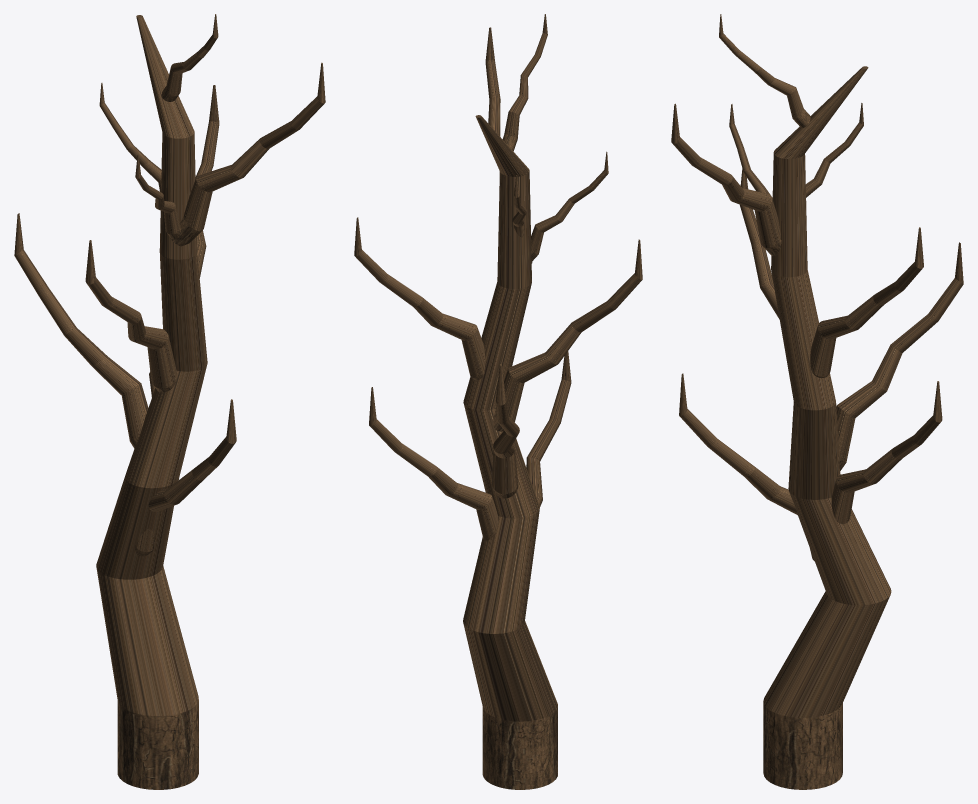
File: withering tree.obj
3 views of the same model, side by side, from view 1: azimuth 30°, elevation 25°; view 2: azimuth 150°, elevation 25°; view 3: azimuth 270°, elevation 25° (orthographic). The views are drawn at different scales.
Visible parts, largest first — view 1: Cylinder, Cylinder.005, Cylinder.003, Cylinder.007, Cylinder.006, Cylinder.008, Cylinder.001, Cylinder.002, Cylinder.004; view 2: Cylinder, Cylinder.007, Cylinder.008, Cylinder.009, Cylinder.005, Cylinder.006, Cylinder.001, Cylinder.002, Cylinder.003; view 3: Cylinder, Cylinder.005, Cylinder.008, Cylinder.003, Cylinder.009, Cylinder.006, Cylinder.007, Cylinder.001, Cylinder.004, Cylinder.002.
Boxes of the visible parts, x1,y1,x2,y2 form: Cylinder: (96,15,207,789); Cylinder.005: (14,213,148,448); Cylinder.003: (170,62,325,246); Cylinder.007: (85,240,176,392); Cylinder.006: (135,399,236,556); Cylinder.008: (195,85,219,278); Cylinder.001: (161,14,218,101); Cylinder.002: (135,154,180,239); Cylinder.004: (99,83,161,191); Cylinder: (463,115,557,789); Cylinder.007: (493,239,642,431); Cylinder.008: (354,217,485,380); Cylinder.009: (369,387,497,540); Cylinder.005: (492,364,519,498); Cylinder.006: (526,351,571,506); Cylinder.001: (502,14,547,151); Cylinder.002: (531,151,608,261); Cylinder.003: (485,27,532,263); Cylinder: (763,66,891,789); Cylinder.005: (836,242,963,470); Cylinder.008: (810,227,923,378); Cylinder.003: (671,103,781,255); Cylinder.009: (831,381,942,524); Cylinder.006: (679,373,814,561); Cylinder.007: (740,169,779,319); Cylinder.001: (719,14,810,127); Cylinder.004: (805,103,863,197); Cylinder.002: (729,104,772,198).
Size of the model in its own units: 6.27 by 21.28 by 7.36.
